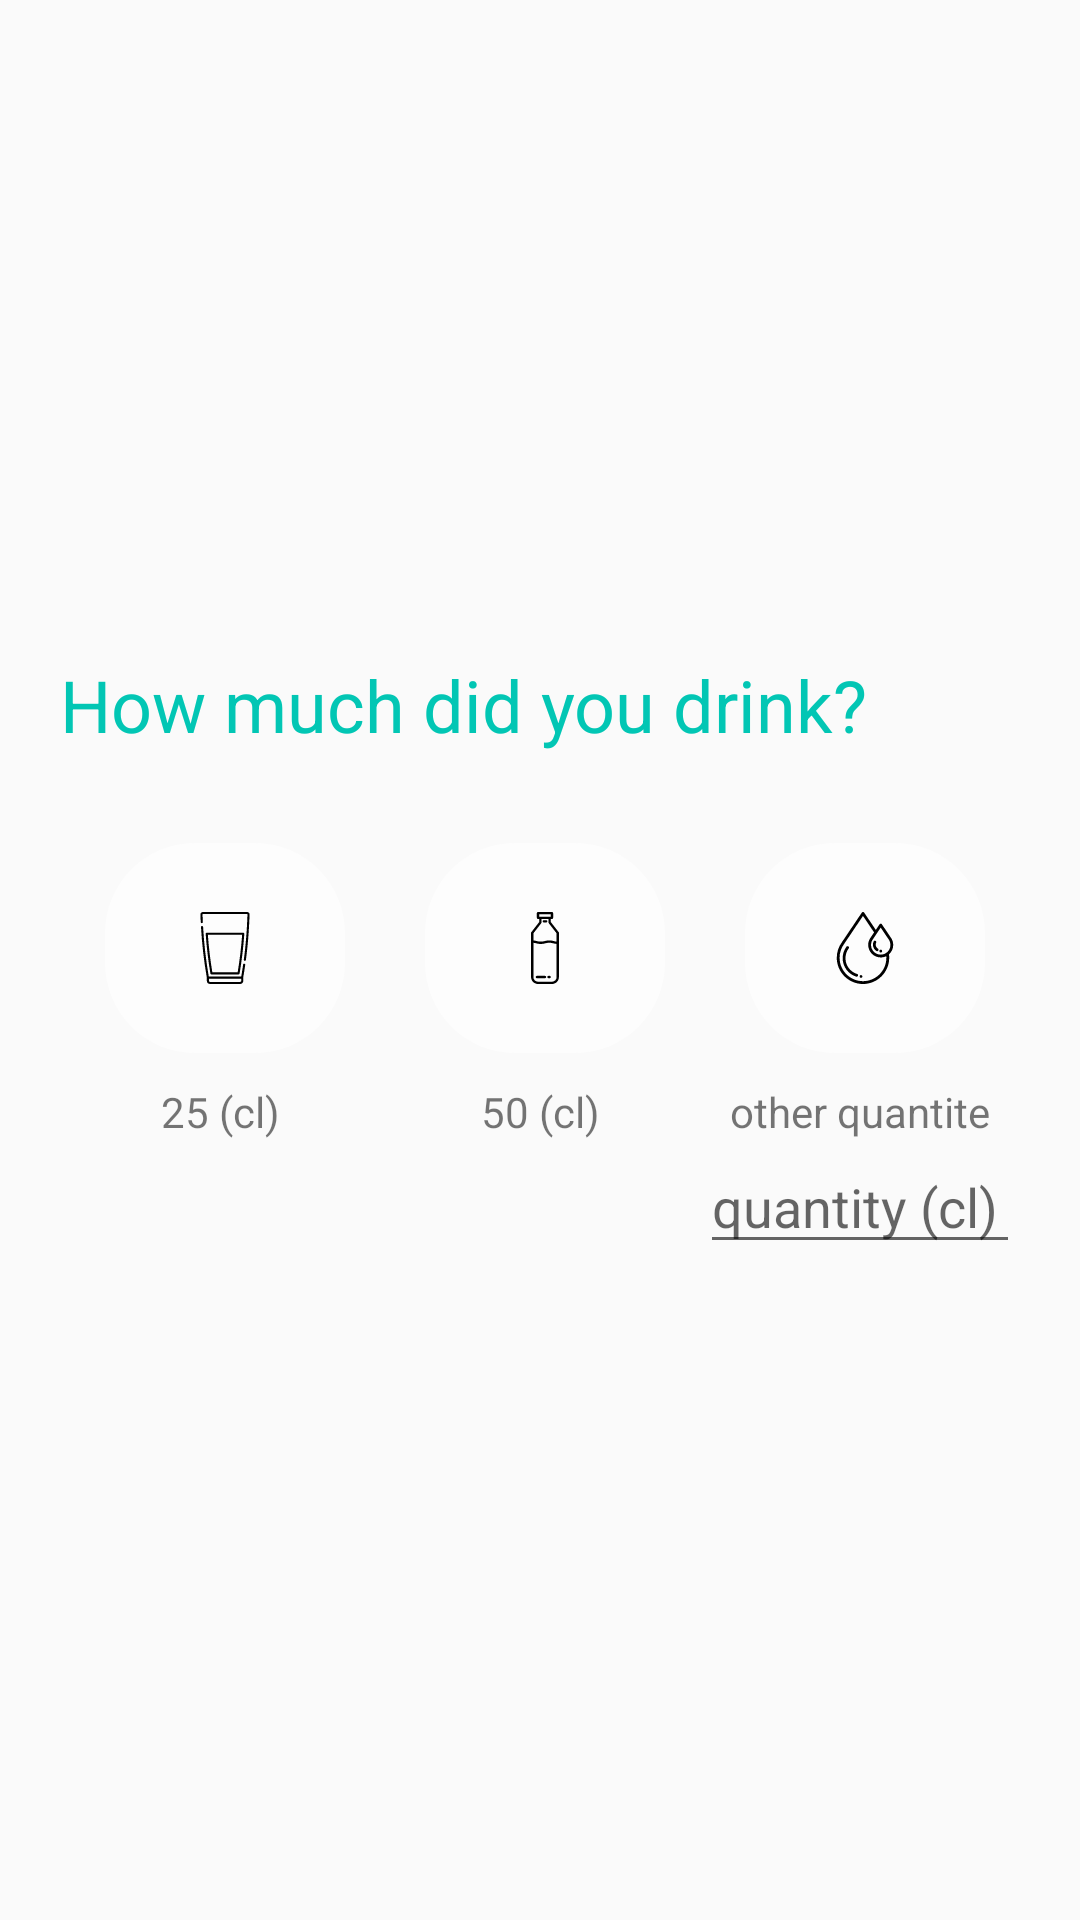

Icon click points for this 1080*1920 phone screenshot, format (x=x, y=y):
glass of water: (x=225, y=948)
milk: (x=545, y=948)
water drop: (x=865, y=948)
